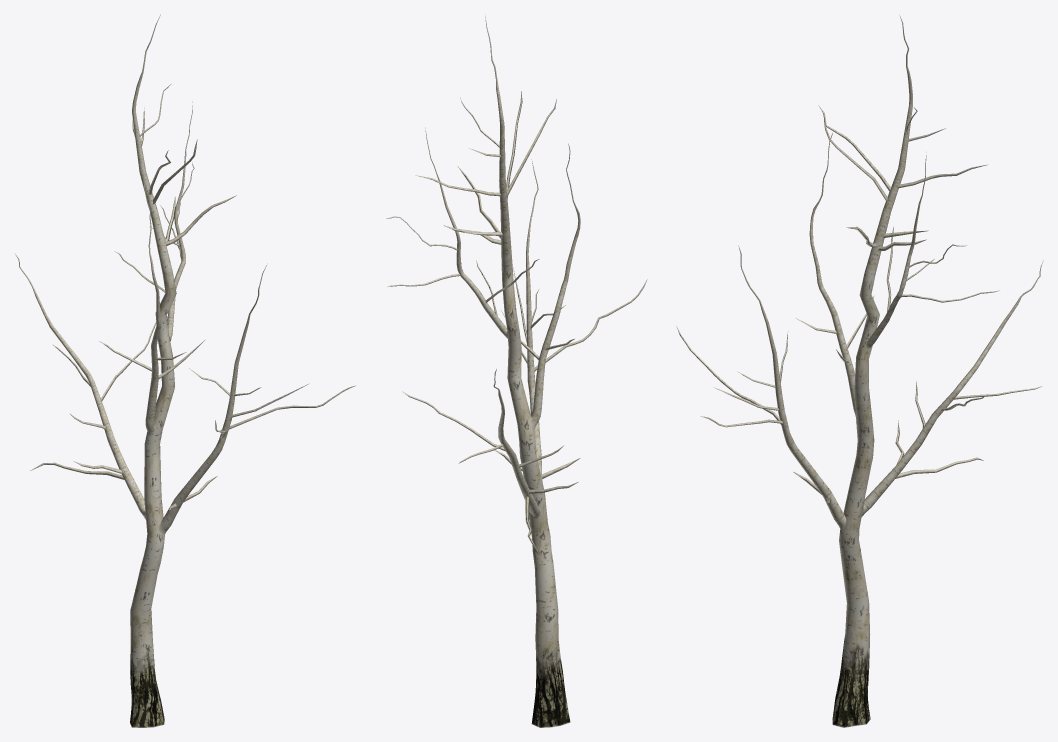
The model's file is tree_dead_birch.glb.
The picture shows the model from 3 angles, left to right: view 1: azimuth 30°, elevation 25°; view 2: azimuth 150°, elevation 25°; view 3: azimuth 270°, elevation 25°; orthographic projection. The views are drawn at different scales.
Visible parts, largest first — view 1: tree_dead_birch; view 2: tree_dead_birch; view 3: tree_dead_birch.
Boxes of the visible parts, x1,y1,x2,y2 form: tree_dead_birch: (14, 14, 355, 727); tree_dead_birch: (386, 16, 647, 727); tree_dead_birch: (676, 15, 1043, 727).
Size of the model in its own units: 14.26 by 48 by 22.03.
Materials: 2 (2 with a texture image).
